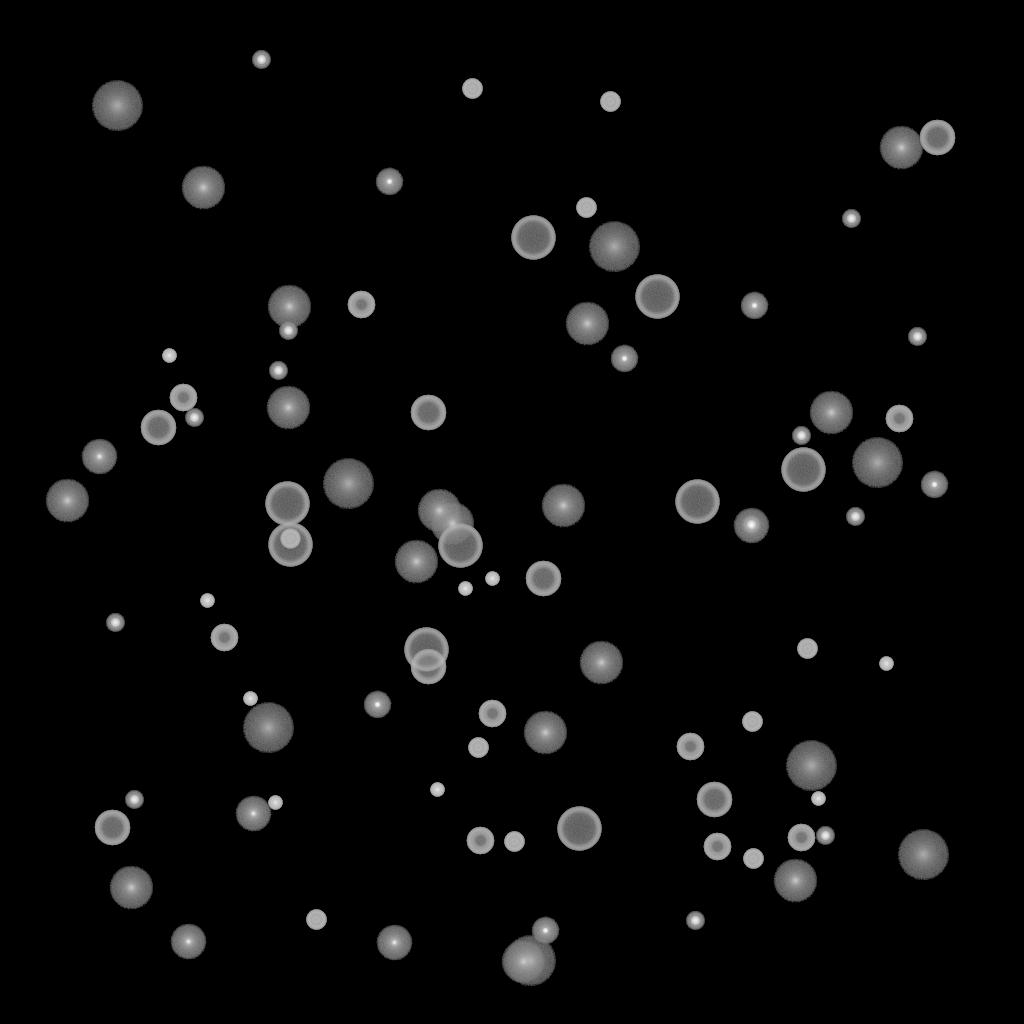depth:-10: (740, 292, 768, 320), (363, 691, 391, 719), (531, 917, 559, 945), (920, 471, 948, 499), (610, 345, 638, 373), (375, 168, 403, 196)
depth:-20: (792, 427, 810, 445), (816, 827, 834, 845), (742, 516, 760, 534), (279, 322, 297, 340), (252, 51, 270, 69), (125, 791, 143, 809), (846, 508, 864, 526), (106, 614, 124, 632), (269, 362, 287, 380), (908, 328, 926, 346), (842, 210, 860, 228), (185, 409, 203, 427), (686, 912, 704, 930)
depth:-30: (485, 572, 499, 586), (162, 349, 176, 363), (268, 796, 282, 810), (430, 783, 444, 797), (458, 582, 472, 596), (200, 594, 214, 608), (811, 792, 825, 806), (879, 657, 893, 671), (243, 692, 257, 706)
depth:-40: (742, 712, 762, 732), (306, 910, 326, 930), (468, 738, 488, 758), (576, 198, 596, 218), (743, 849, 763, 869), (280, 529, 300, 549), (462, 79, 482, 99), (797, 639, 817, 659), (600, 92, 620, 112), (504, 832, 524, 852)
depth:-50: (210, 624, 238, 652), (347, 291, 375, 319), (466, 827, 494, 855), (703, 833, 731, 861), (478, 700, 506, 728), (169, 384, 197, 412), (676, 733, 704, 761), (885, 405, 913, 433), (787, 824, 815, 852)
depth:-60: (94, 810, 130, 846), (919, 120, 955, 156), (140, 410, 176, 446), (525, 561, 561, 597), (410, 649, 446, 685), (410, 395, 446, 431), (696, 782, 732, 818)
depth:-70: (265, 482, 309, 526), (635, 275, 679, 319), (511, 216, 555, 260), (438, 524, 482, 568), (557, 807, 601, 851), (268, 523, 312, 567), (404, 628, 448, 672), (781, 448, 825, 492), (675, 480, 719, 524)
depth:0: (376, 925, 412, 961), (733, 508, 769, 544), (81, 439, 117, 475), (170, 924, 206, 960), (235, 796, 271, 832)
depth:10: (541, 484, 585, 528), (773, 859, 817, 903), (394, 540, 438, 584), (430, 502, 474, 546), (109, 866, 153, 910), (45, 479, 89, 523), (579, 641, 623, 685), (181, 166, 225, 210), (879, 126, 923, 170), (501, 940, 545, 984), (523, 711, 567, 755), (565, 302, 609, 346), (417, 489, 461, 533), (267, 285, 311, 329), (809, 391, 853, 435), (266, 386, 310, 430)
depth:20: (851, 438, 903, 488), (504, 936, 556, 986), (322, 459, 374, 509), (785, 741, 837, 791), (91, 81, 143, 131), (242, 703, 294, 753), (897, 830, 949, 880), (588, 222, 640, 272)
